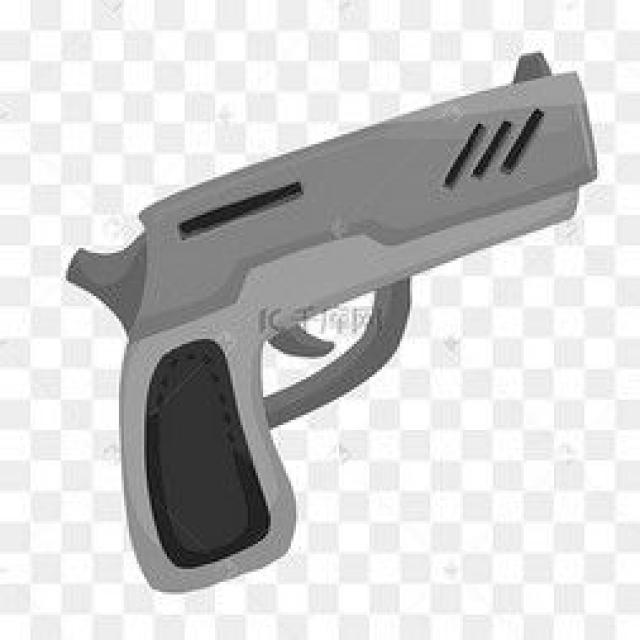gun: (63, 48, 597, 592)
